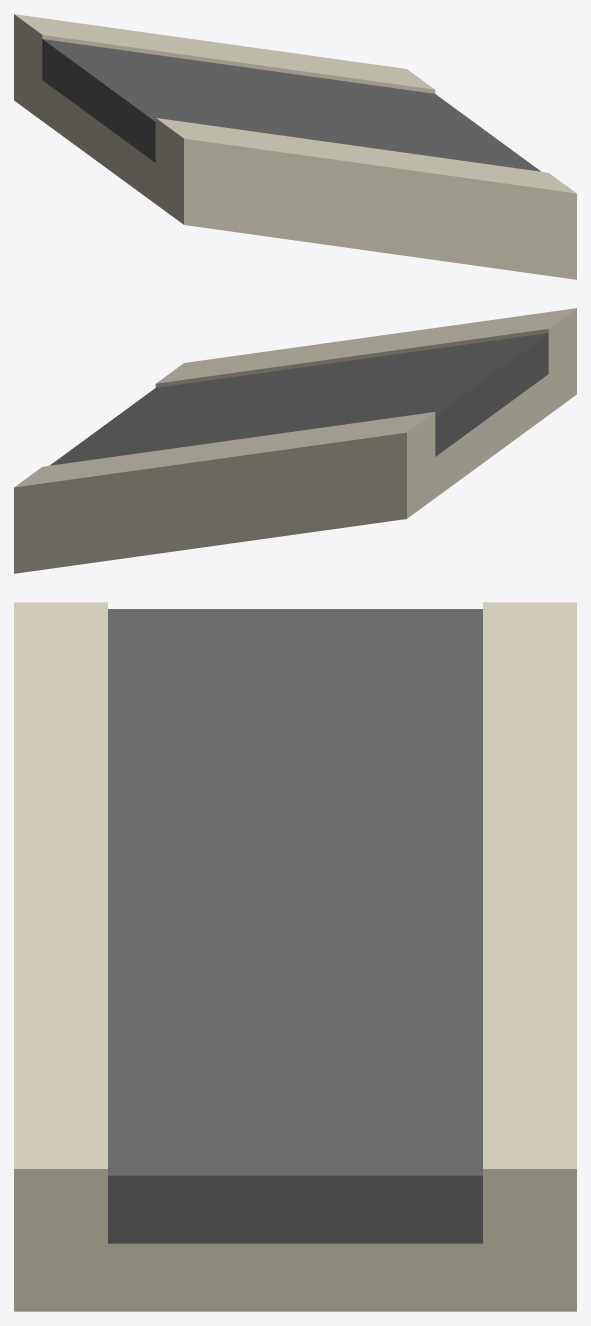
The model's file is tile128.dae.
3 renders of one model, top to bottom at view 1: azimuth 30°, elevation 25°; view 2: azimuth 150°, elevation 25°; view 3: azimuth 270°, elevation 25°, orthographic. The views are drawn at different scales.
Visible parts, largest first — view 1: tile128; view 2: tile128; view 3: tile128.
Boxes of the visible parts, <box> form: tile128: <box>14,14,576,279</box>; tile128: <box>14,308,576,573</box>; tile128: <box>14,602,576,1311</box>.
Size of the model in its own units: 1 by 0.5767 by 0.75.
